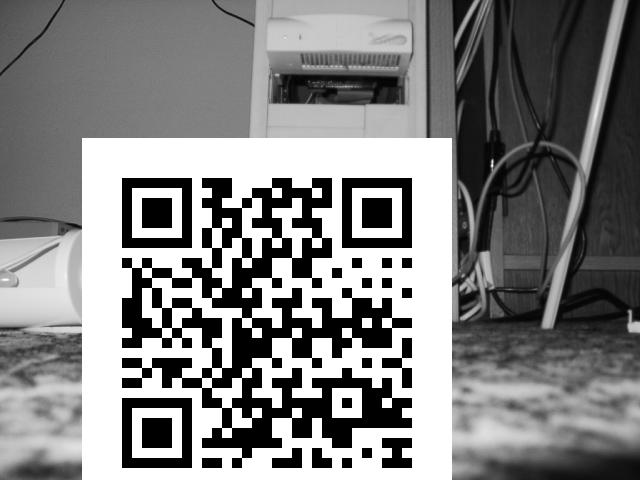qr_code: (85, 141, 449, 478)
